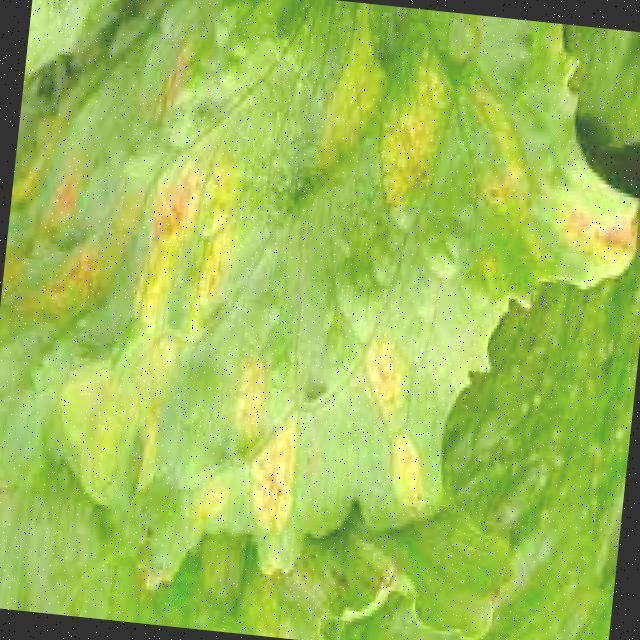Downy_Mildew: (16, 0, 471, 549)
